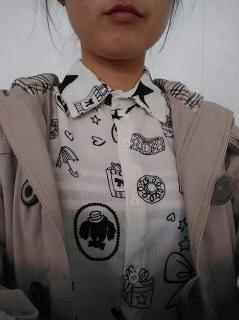long sleeve top: (0, 58, 239, 319)
